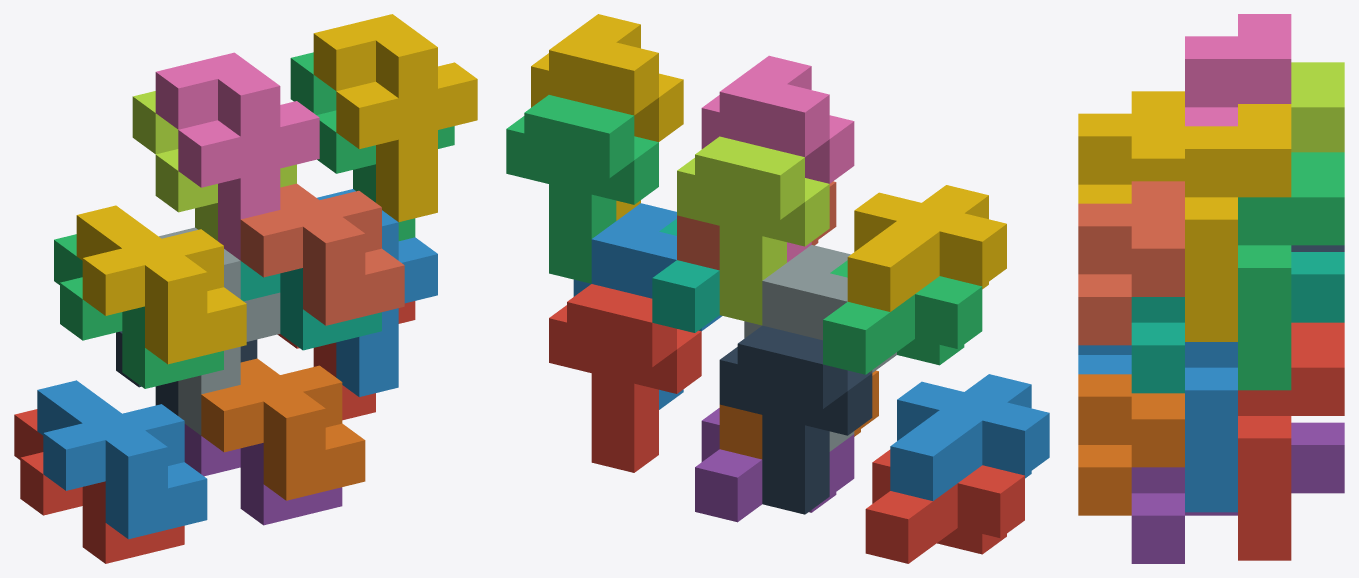
The model's file is tiling.obj.
The picture shows the model from 3 angles, left to right: view 1: azimuth 30°, elevation 25°; view 2: azimuth 150°, elevation 25°; view 3: azimuth 270°, elevation 25°; orthographic projection. The views are drawn at different scales.
Parts seen in each view (by area): view 1: copy_2_domain_8, copy_2_domain_4, copy_1_domain_2, copy_1_domain_4, copy_1_domain_6, copy_1_domain_8, copy_1_domain_1, copy_1_domain_3, copy_2_domain_6, copy_2_domain_7, copy_1_domain_5, copy_2_domain_3 (+4 smaller); view 2: copy_2_domain_1, copy_2_domain_5, copy_2_domain_3, copy_2_domain_7, copy_1_domain_4, copy_1_domain_2, copy_2_domain_4, copy_2_domain_8, copy_1_domain_1, copy_1_domain_3, copy_2_domain_2, copy_2_domain_6 (+4 smaller); view 3: copy_2_domain_8, copy_2_domain_7, copy_2_domain_5, copy_1_domain_8, copy_1_domain_6, copy_1_domain_4, copy_2_domain_4, copy_1_domain_5, copy_1_domain_7, copy_2_domain_6, copy_2_domain_3, copy_1_domain_2 (+1 smaller).
Part boxes in pixels (bbox=[...]): copy_2_domain_8: bbox=[313, 14, 477, 222]; copy_2_domain_4: bbox=[155, 52, 319, 260]; copy_1_domain_2: bbox=[37, 380, 207, 539]; copy_1_domain_4: bbox=[76, 205, 246, 364]; copy_1_domain_6: bbox=[201, 358, 365, 500]; copy_1_domain_8: bbox=[240, 183, 404, 325]; copy_1_domain_1: bbox=[14, 409, 184, 563]; copy_1_domain_3: bbox=[54, 234, 223, 388]; copy_2_domain_6: bbox=[317, 189, 437, 396]; copy_2_domain_7: bbox=[290, 52, 454, 240]; copy_1_domain_5: bbox=[184, 424, 342, 525]; copy_2_domain_3: bbox=[132, 91, 296, 240]; copy_2_domain_1: bbox=[719, 325, 872, 514]; copy_2_domain_5: bbox=[549, 284, 701, 472]; copy_2_domain_3: bbox=[677, 136, 829, 325]; copy_2_domain_7: bbox=[506, 95, 658, 283]; copy_1_domain_4: bbox=[847, 185, 1006, 311]; copy_1_domain_2: bbox=[890, 374, 1049, 500]; copy_2_domain_4: bbox=[701, 55, 854, 262]; copy_2_domain_8: bbox=[531, 14, 683, 220]; copy_1_domain_1: bbox=[865, 449, 1024, 563]; copy_1_domain_3: bbox=[823, 260, 982, 374]; copy_2_domain_2: bbox=[744, 245, 896, 451]; copy_2_domain_6: bbox=[573, 203, 721, 409]; copy_2_domain_8: bbox=[1185, 104, 1291, 341]; copy_2_domain_7: bbox=[1238, 152, 1344, 390]; copy_2_domain_5: bbox=[1238, 322, 1344, 560]; copy_1_domain_8: bbox=[1078, 181, 1184, 345]; copy_1_domain_6: bbox=[1078, 374, 1184, 515]; copy_1_domain_4: bbox=[1078, 91, 1184, 203]; copy_2_domain_4: bbox=[1185, 14, 1291, 126]; copy_1_domain_5: bbox=[1131, 422, 1344, 563]; copy_1_domain_7: bbox=[1131, 252, 1344, 393]; copy_2_domain_6: bbox=[1185, 342, 1237, 512]; copy_2_domain_3: bbox=[1291, 62, 1344, 152]; copy_1_domain_2: bbox=[1078, 345, 1131, 374].
Size of the model in its own units: 11 by 10 by 5.
